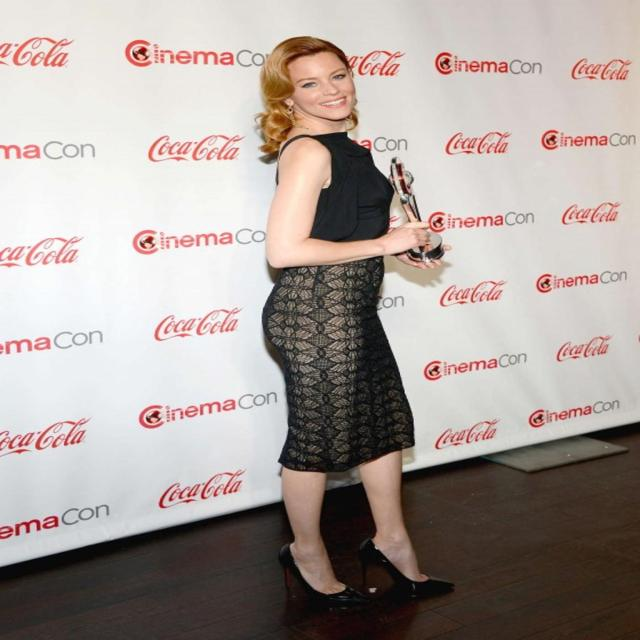Face: (279, 45, 377, 124)
